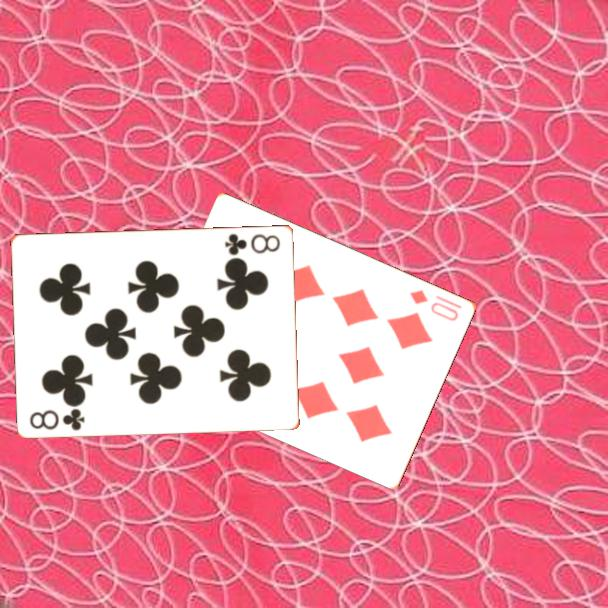c08: (222, 230, 283, 258), (27, 405, 88, 433)
d10: (407, 286, 462, 324)
